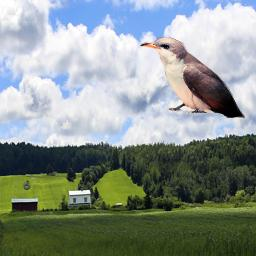Cuckoo: (140, 37, 245, 119)
